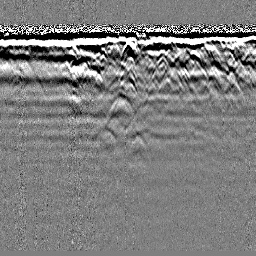cavity: (120, 40, 138, 60)
